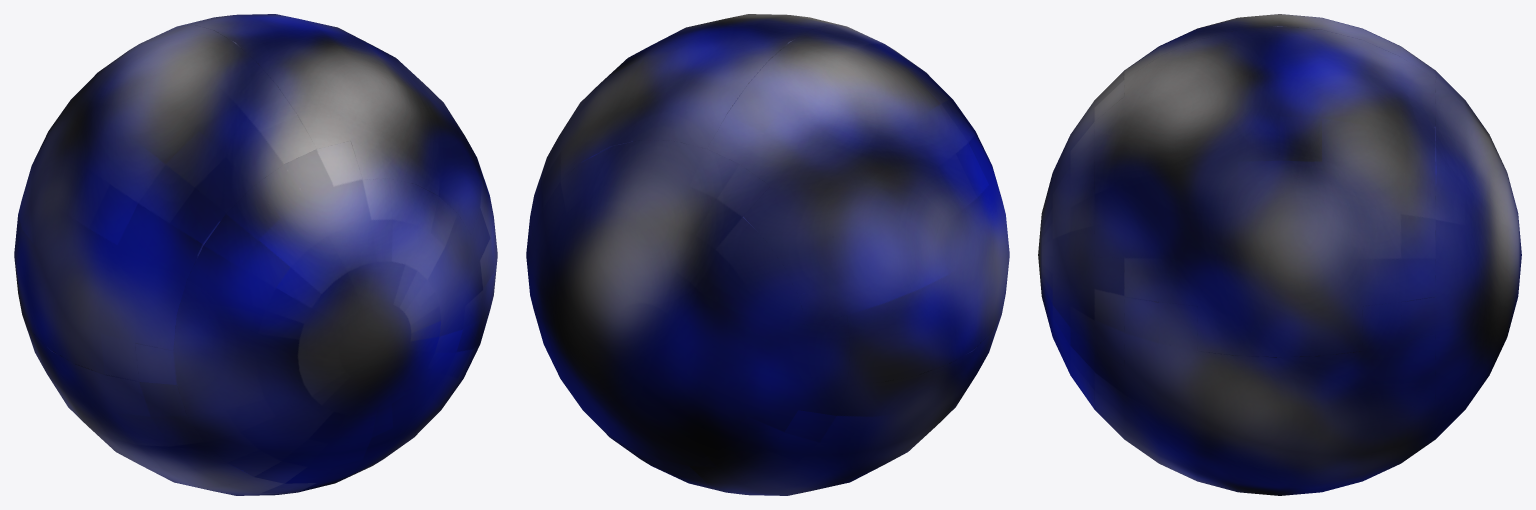
Rendered from bullet2animation.fbx.
3 views of the same model, side by side, from view 1: azimuth 30°, elevation 25°; view 2: azimuth 150°, elevation 25°; view 3: azimuth 270°, elevation 25° (orthographic).
Parts seen in each view (by area): view 1: Sphere; view 2: Sphere; view 3: Sphere.
Boxes of the visible parts, left/top/right/bottom form: Sphere: left=14, top=14, right=497, bottom=495; Sphere: left=526, top=14, right=1009, bottom=495; Sphere: left=1038, top=14, right=1521, bottom=495.
Size of the model in its own units: 2 by 1.99 by 2.
Materials: 1 (1 with a texture image).
